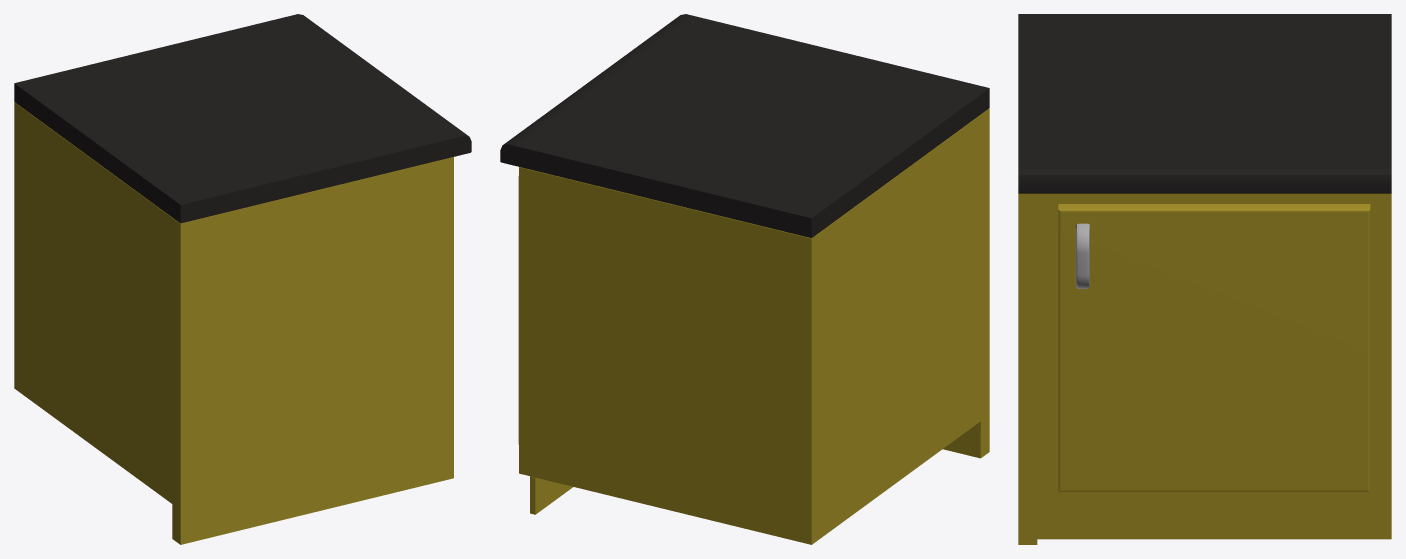
Rendered from Left End Unit.fbx.
The picture shows the model from 3 angles, left to right: view 1: azimuth 30°, elevation 25°; view 2: azimuth 150°, elevation 25°; view 3: azimuth 270°, elevation 25°; orthographic projection. The views are drawn at different scales.
Parts seen in each view (by area): view 1: Left_End_Unit; view 2: Left_End_Unit; view 3: Left_End_Unit.
Boxes of the visible parts, x1,y1,x2,y2 form: Left_End_Unit: [14, 14, 471, 544]; Left_End_Unit: [500, 14, 989, 544]; Left_End_Unit: [1018, 14, 1391, 544].
Size of the model in its own units: 110 by 119 by 105.
